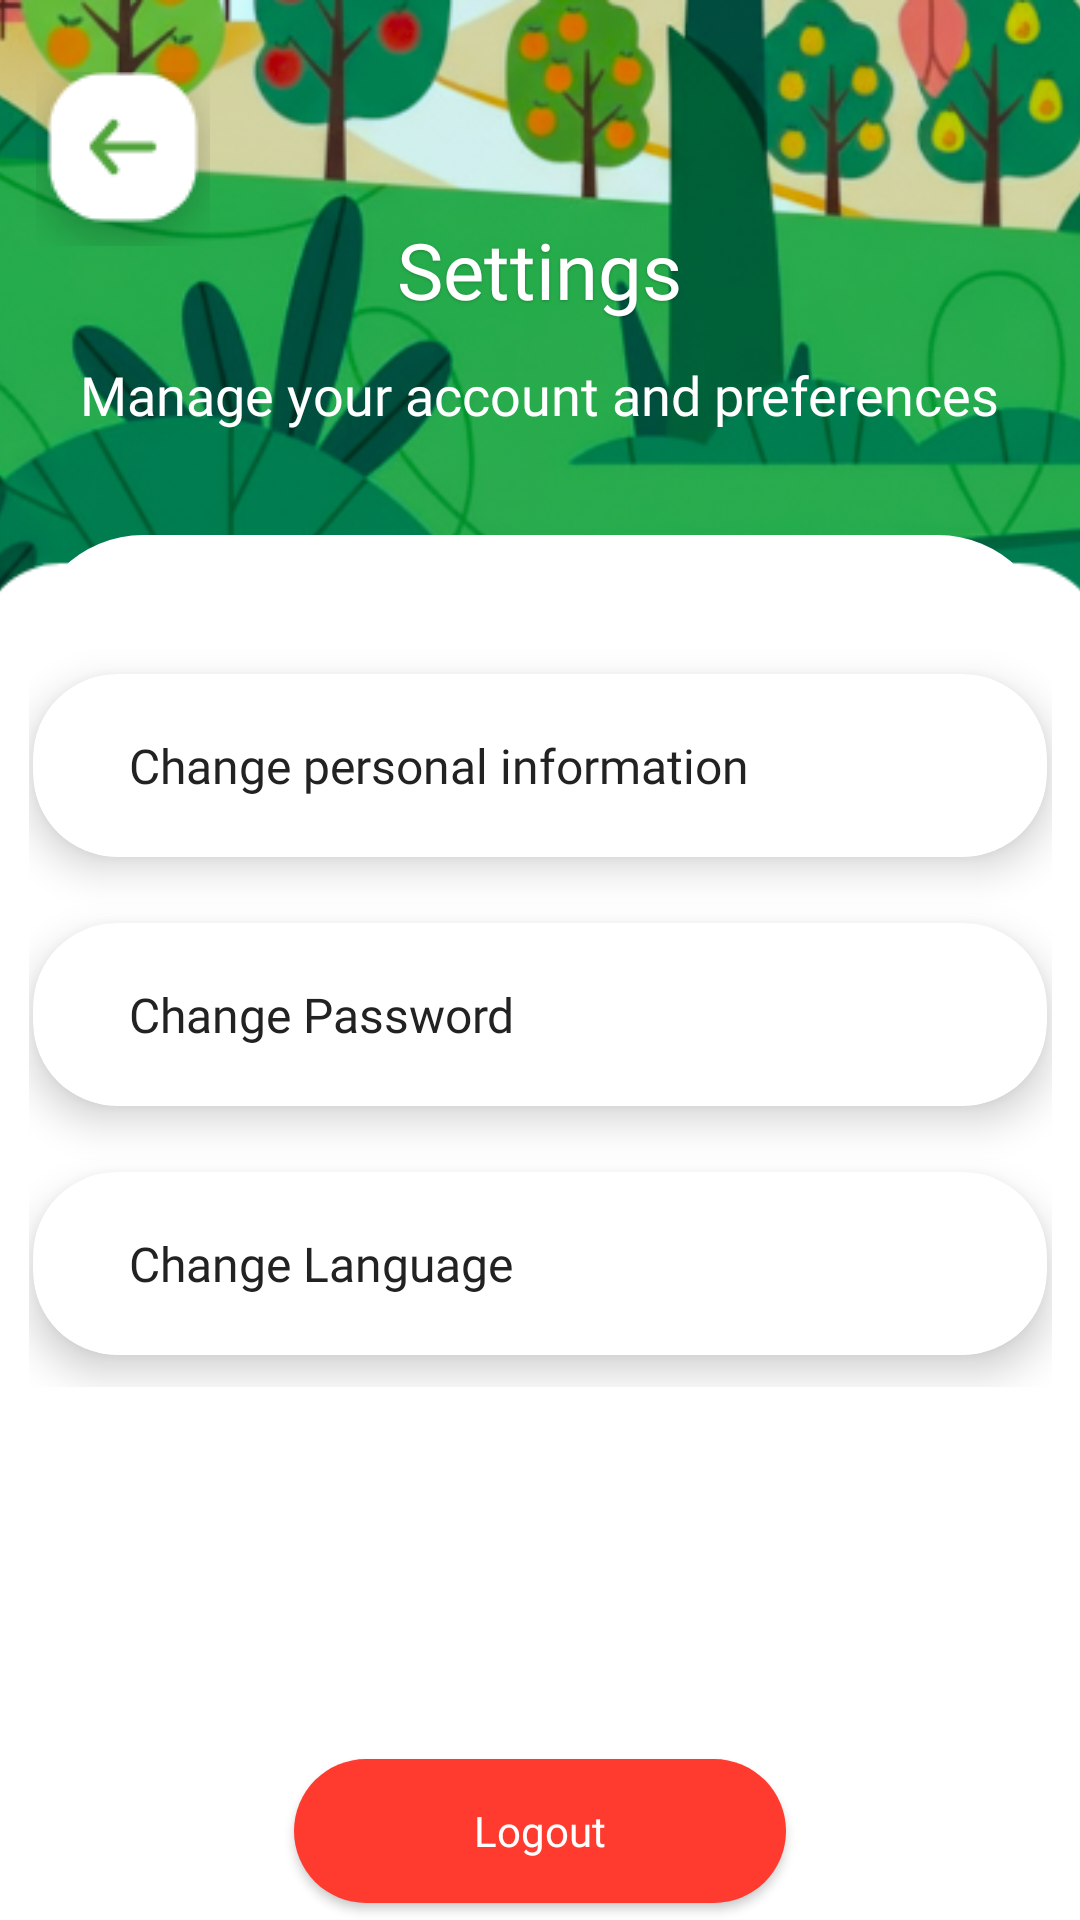

Icons on this 1080 x 1920 Android screen, each with the point to tap as (x=x, y=y):
Back: (x=123, y=159)
